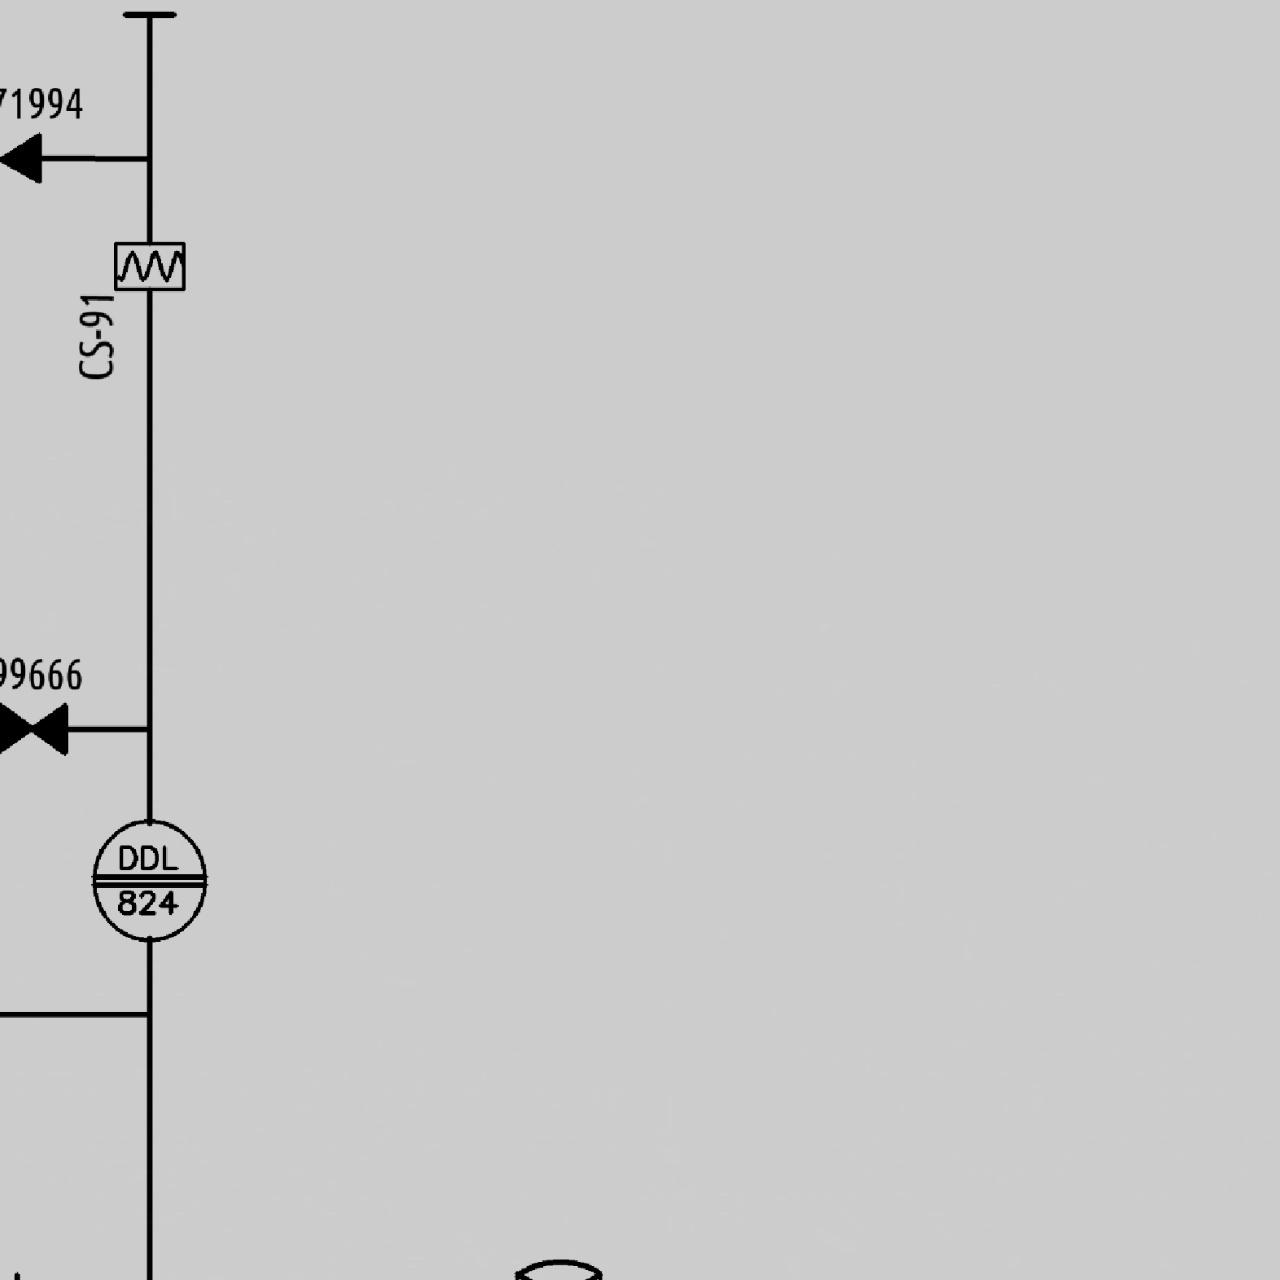Control-Panel: (82, 813, 215, 945)
